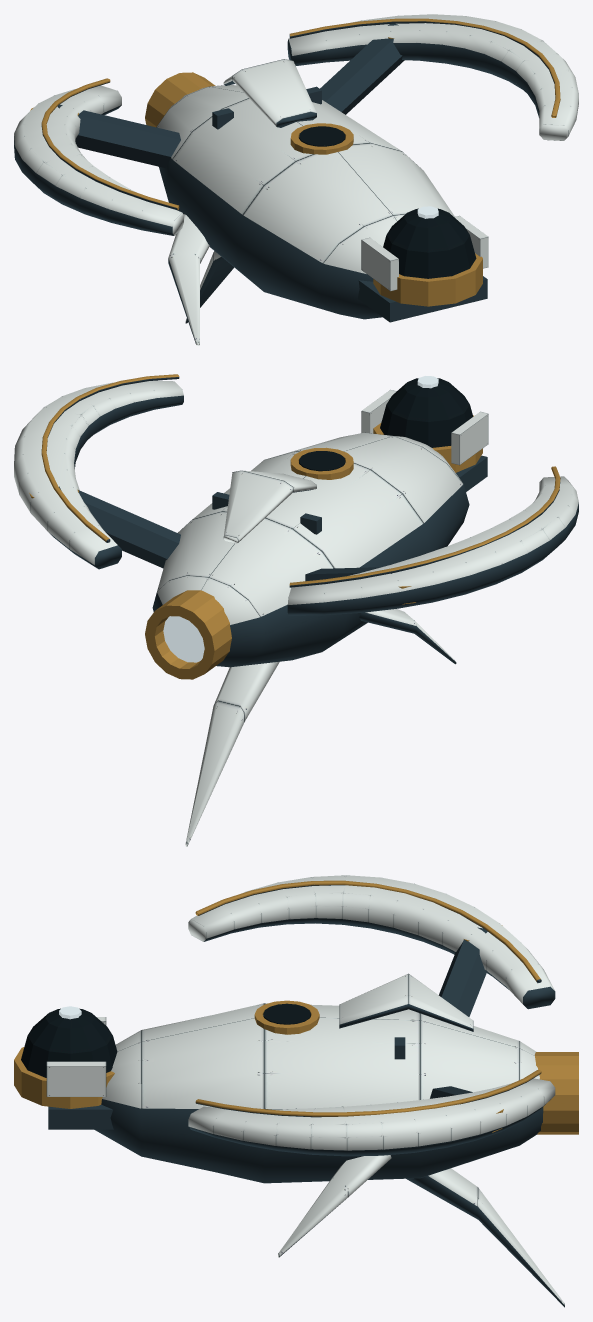
Rendered from pioneer-europa-l06-shield.glb.
The picture shows the model from 3 angles, top to bottom: view 1: azimuth 30°, elevation 25°; view 2: azimuth 150°, elevation 25°; view 3: azimuth 270°, elevation 25°; orthographic projection. The views are drawn at different scales.
Visible parts, largest first — view 1: Drone; view 2: Drone; view 3: Drone.
Part boxes in pixels (bbox=[...]): Drone: bbox=[14, 14, 578, 345]; Drone: bbox=[14, 374, 578, 846]; Drone: bbox=[14, 875, 578, 1307].
Bounding box in the file's own units: 1.4 × 0.82 × 1.3.
3 materials, 3 textured.
